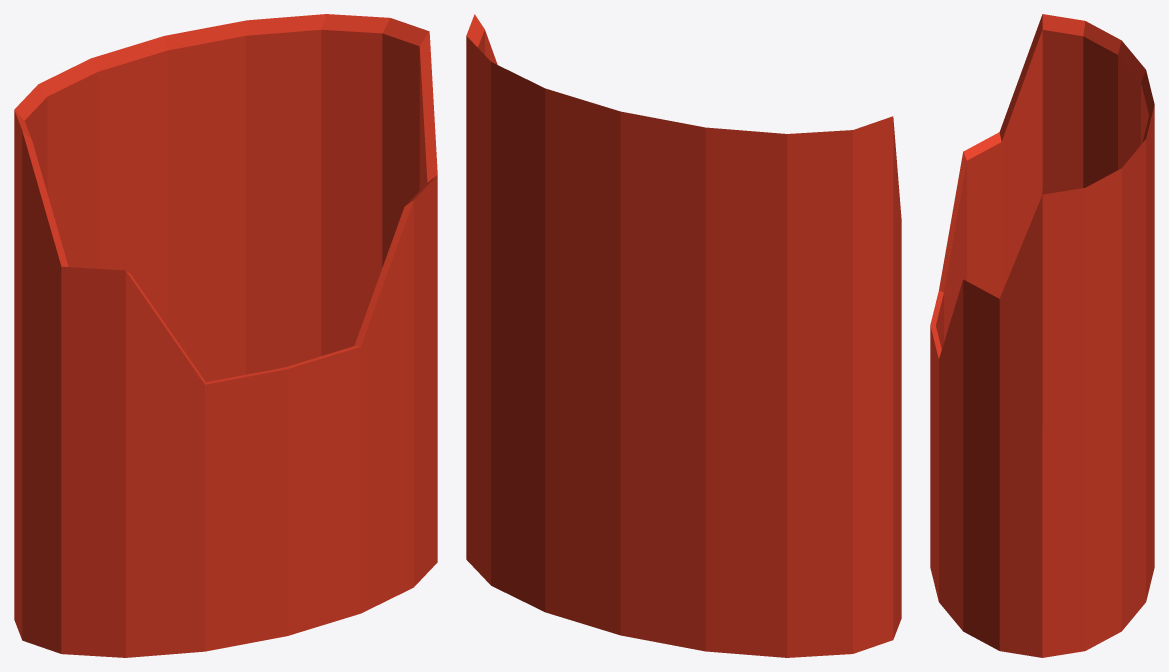
File: kartoshkaFriPAKET.fbx
3 renders of one model, left to right at view 1: azimuth 30°, elevation 25°; view 2: azimuth 150°, elevation 25°; view 3: azimuth 270°, elevation 25°, orthographic. The views are drawn at different scales.
Parts seen in each view (by area): view 1: Circle; view 2: Circle; view 3: Circle.
Boxes of the visible parts, left/top/right/bottom form: Circle: left=14, top=14, right=437, bottom=657; Circle: left=466, top=14, right=901, bottom=657; Circle: left=930, top=14, right=1154, bottom=657.
Size of the model in its own units: 25.7 by 30.74 by 13.49.
